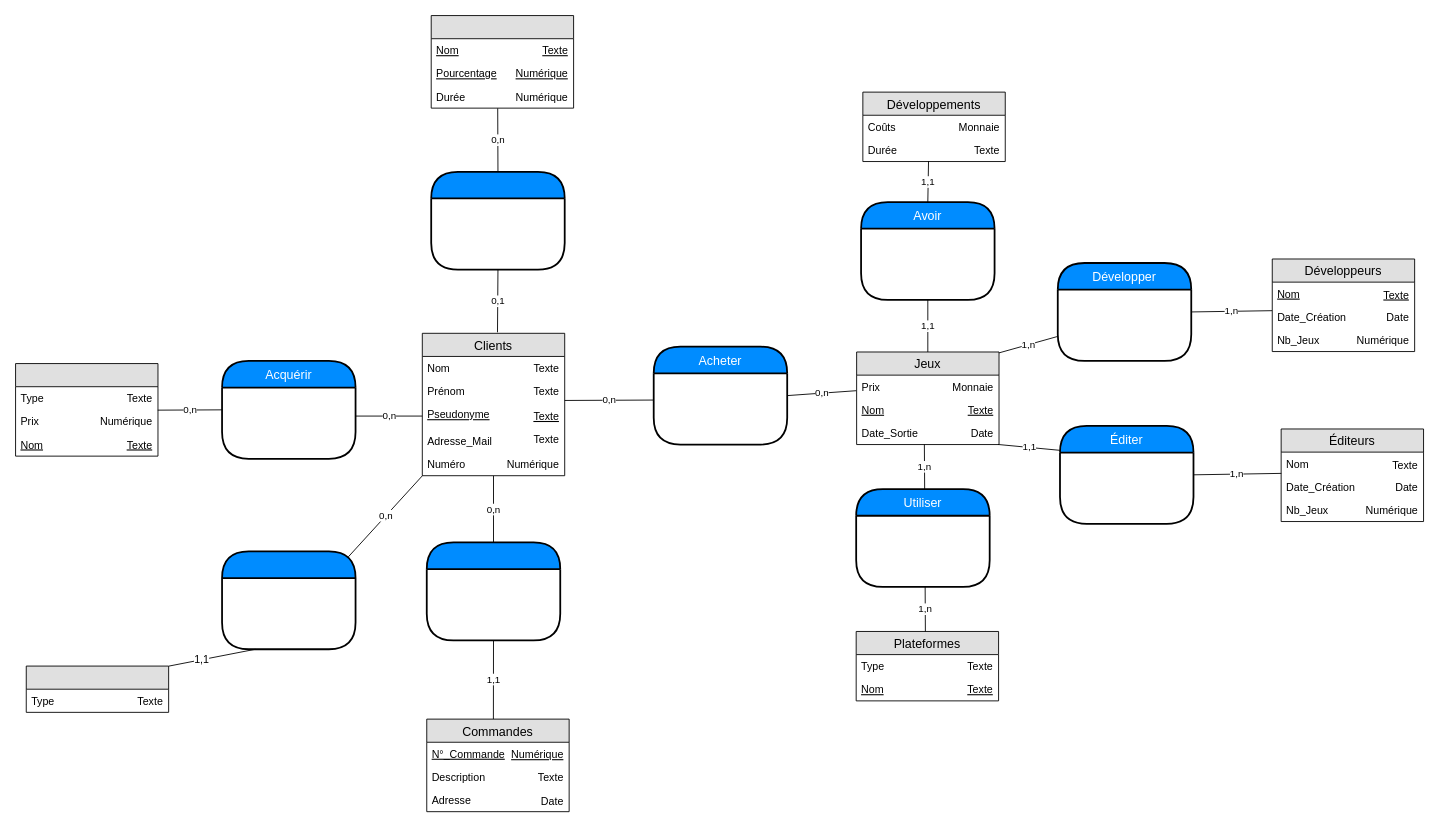
The diagram is 1439 pixels wide and 830 high, and some of its shapes have lost their labels. Here are the shapes that lost their labels. From the top down, the box of each, then its label:
(430, 15, 574, 108): Réductions
(430, 170, 565, 270): Profiter
(15, 363, 158, 456): Accessoires
(221, 550, 356, 650): Effectuer
(425, 541, 561, 641): Passer
(25, 665, 169, 712): Paiements
